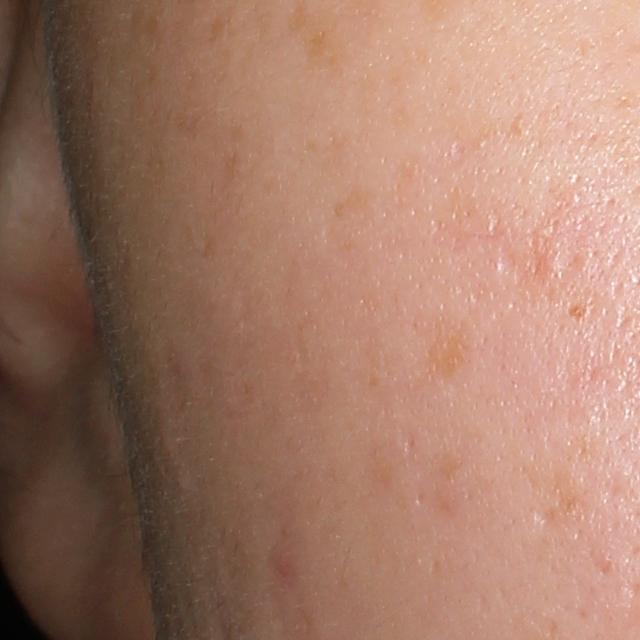atrophic_scar: (489, 218, 563, 293), (528, 507, 556, 534)
melasma: (424, 317, 470, 386), (334, 191, 374, 226)
